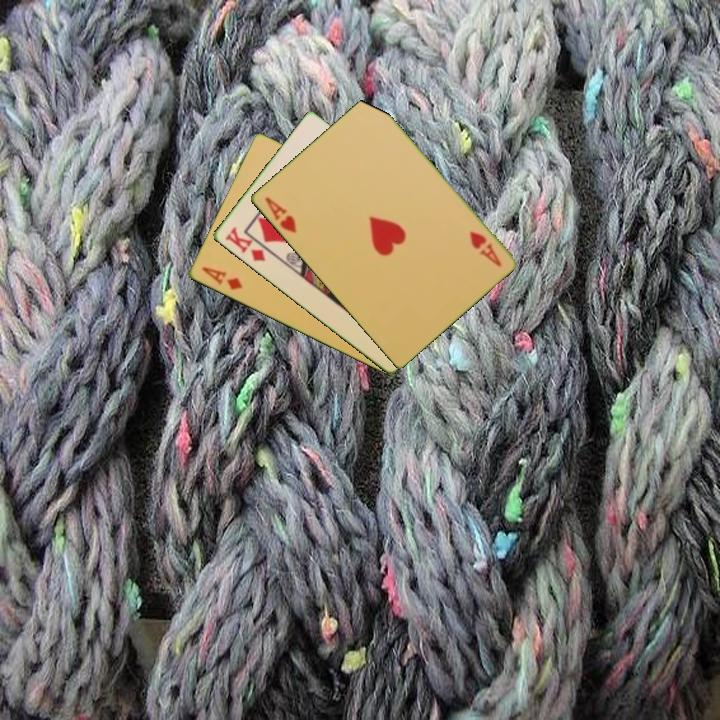Ad: (198, 263, 245, 293)
Ah: (465, 227, 504, 270), (261, 193, 299, 236)
Kd: (221, 223, 268, 265)
